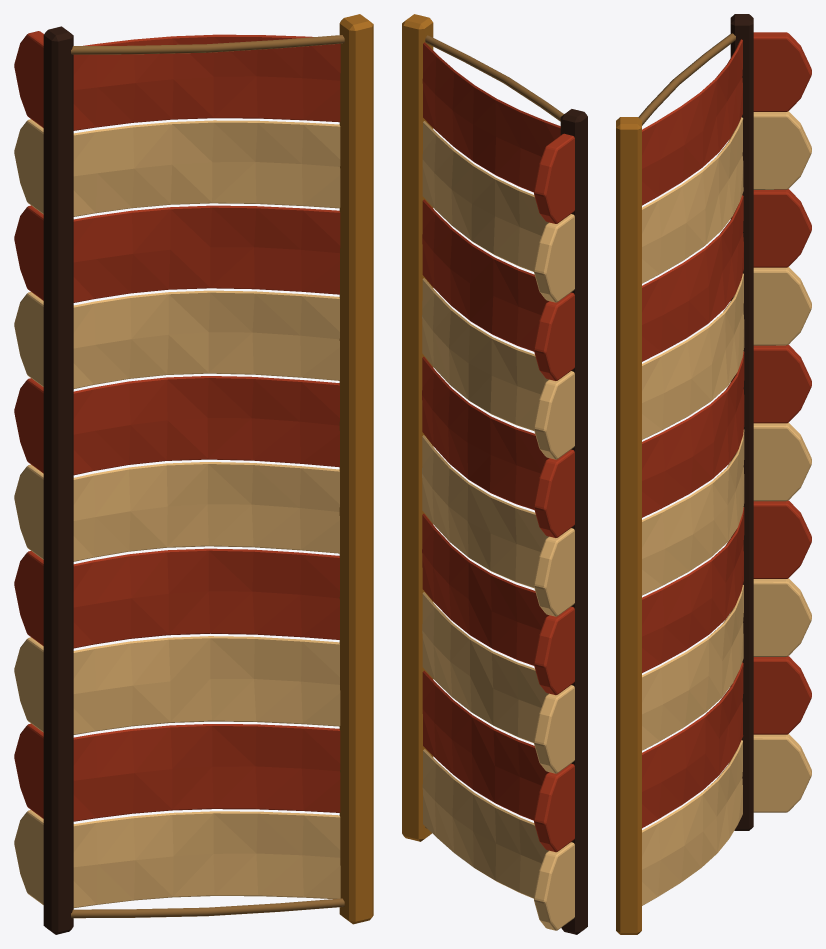
The model's file is SM_LT_TraderHub_Awning.obj.
3 renders of one model, left to right at view 1: azimuth 30°, elevation 25°; view 2: azimuth 150°, elevation 25°; view 3: azimuth 270°, elevation 25°, orthographic. The views are drawn at different scales.
Parts seen in each view (by area): view 1: SM_LT_TraderHub_Awning_EXPORT; view 2: SM_LT_TraderHub_Awning_EXPORT; view 3: SM_LT_TraderHub_Awning_EXPORT.
Boxes of the visible parts, box(x1,y1,x2,y2) form: SM_LT_TraderHub_Awning_EXPORT: box(14, 14, 373, 934); SM_LT_TraderHub_Awning_EXPORT: box(402, 14, 587, 934); SM_LT_TraderHub_Awning_EXPORT: box(616, 14, 811, 934).
Bounding box in the file's own units: 188 × 625 × 137.
